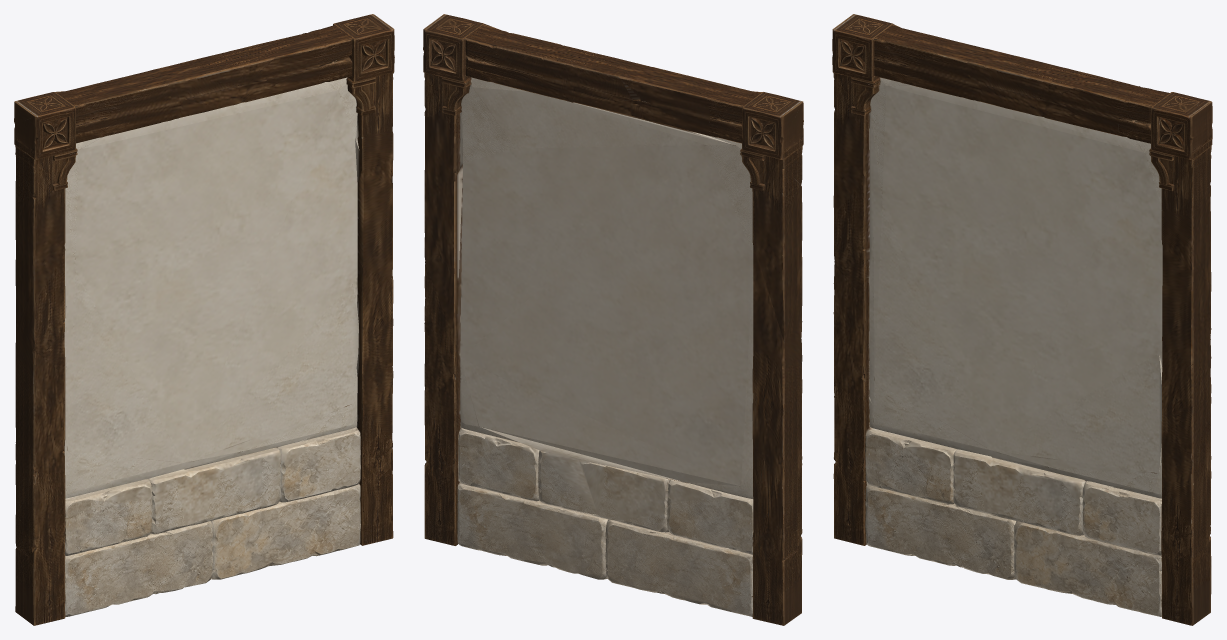
3 views of the same model, side by side, from view 1: azimuth 30°, elevation 25°; view 2: azimuth 150°, elevation 25°; view 3: azimuth 330°, elevation 25° (orthographic).
Visible parts, largest first — view 1: Mesh_0; view 2: Mesh_0; view 3: Mesh_0.
Boxes of the visible parts, x1,y1,x2,y2 form: Mesh_0: [14, 14, 394, 625]; Mesh_0: [423, 14, 803, 625]; Mesh_0: [832, 14, 1212, 625].
Bounding box in the file's own units: 1.4 × 1.9 × 0.1513.
Materials: 1 (1 with a texture image).
